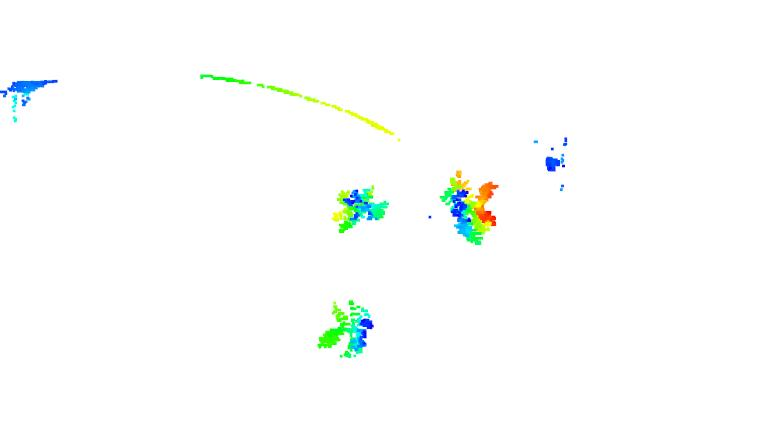chickpea: (440, 168, 503, 250), (316, 294, 374, 365), (330, 180, 392, 231)
